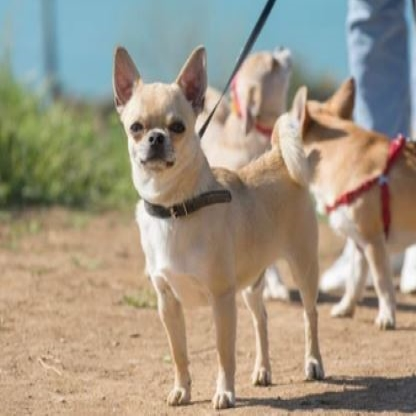chihuahua: (106, 43, 331, 412)
